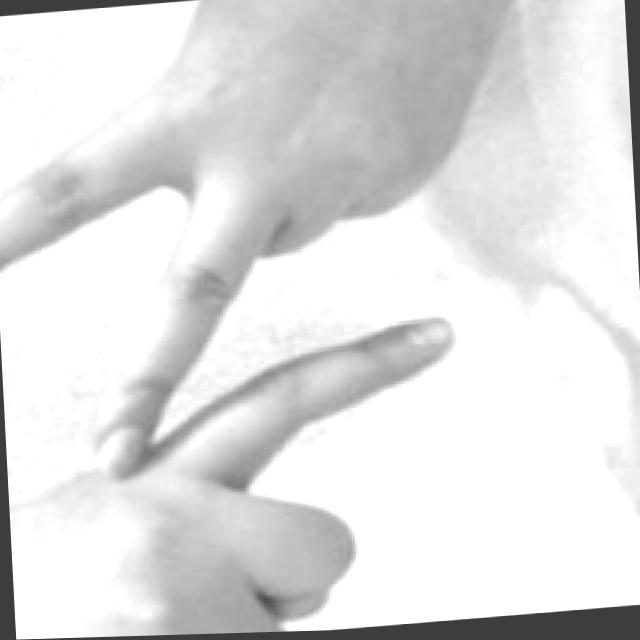Z: (0, 0, 556, 640)
